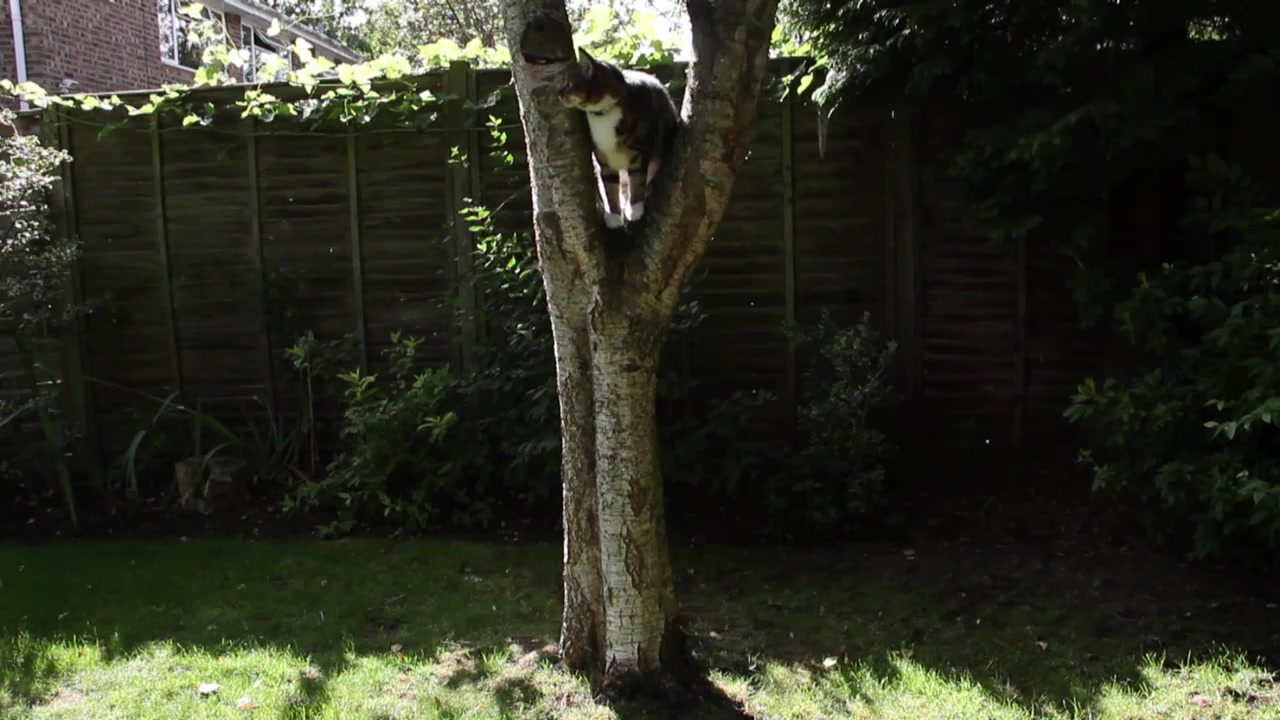cat: (560, 52, 692, 228)
